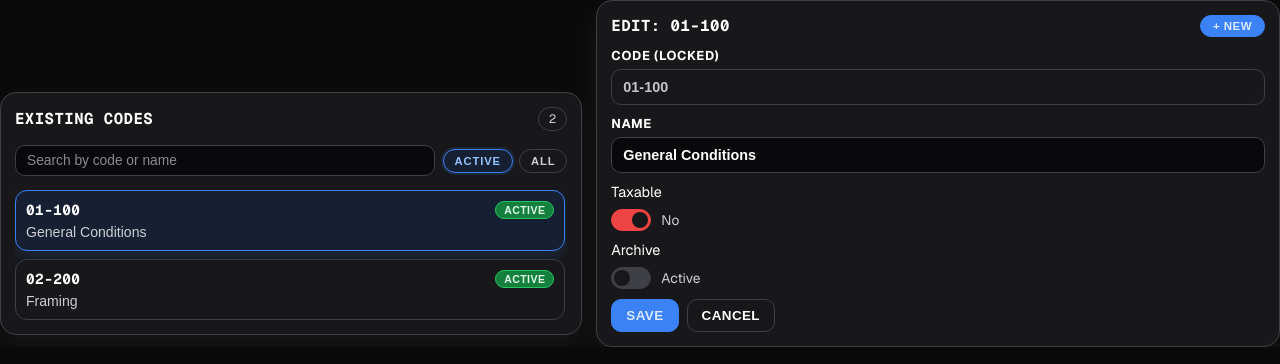
Test: CostCodesConsole › selects a cost code and populates the edit form
Click the text "02-200" at (53, 279), box [26, 270, 80, 288]
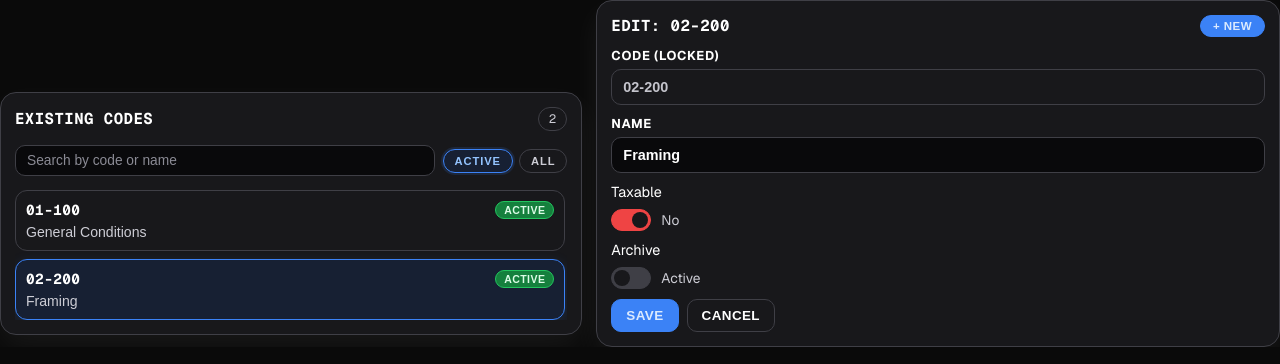
Expected: the heading "Edit: 02-200" is shown, [611, 17, 730, 35]
Expected: the field labelled "Name" holds "Framing", [611, 137, 1265, 173]
